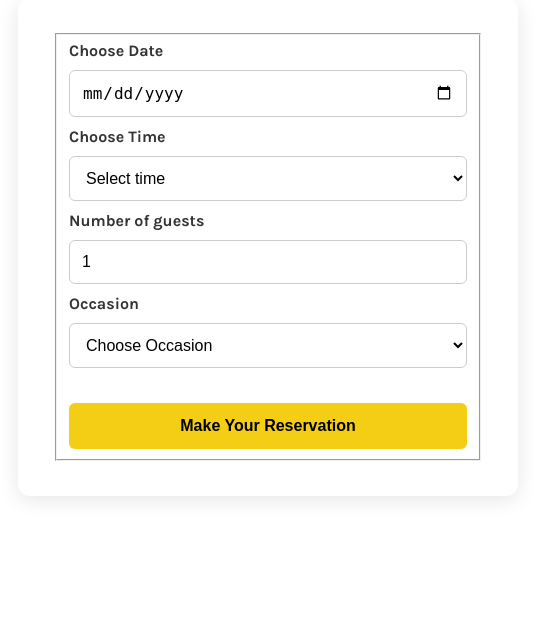
Test case: shows guest error when number of guests is outside the allowed range
Type "0" into the number field labelled "Number of guests".
click(268, 262); type("0")  # box x1=69 y1=240 x2=467 y2=284
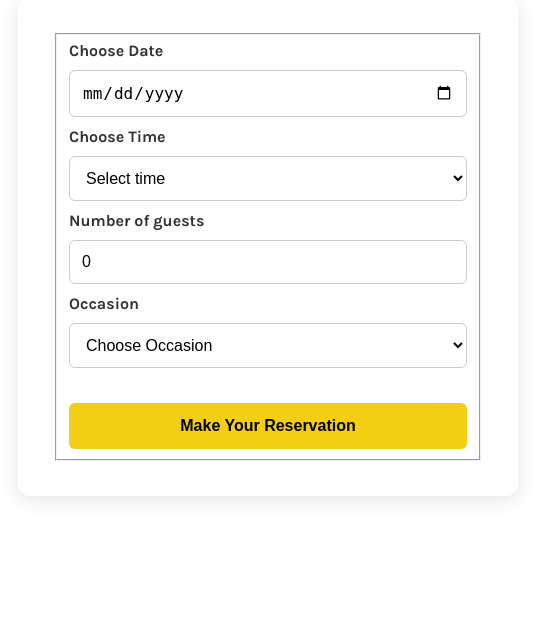
Click the button showing "Make Your Reservation".
click(268, 426)  # box x1=69 y1=403 x2=467 y2=449
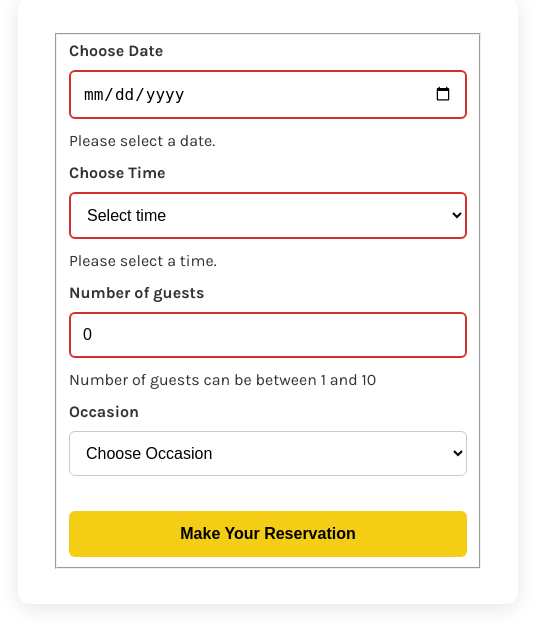
expect the text "Number of guests can be between 1 and 10" is shown: met, box x1=69 y1=370 x2=376 y2=389
